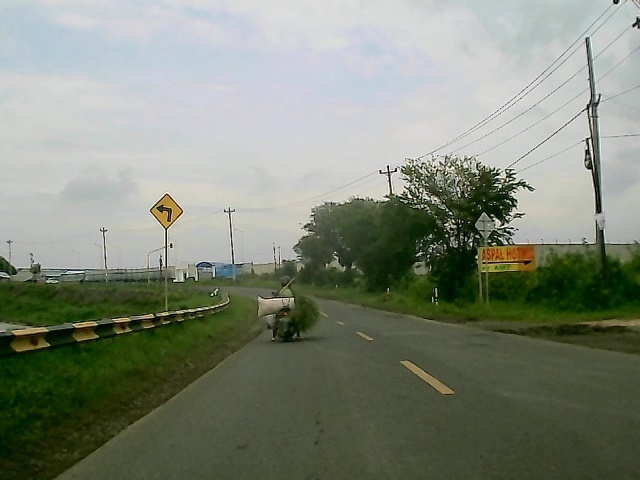Tikungan tajam ke kiri: (145, 191, 185, 230)
